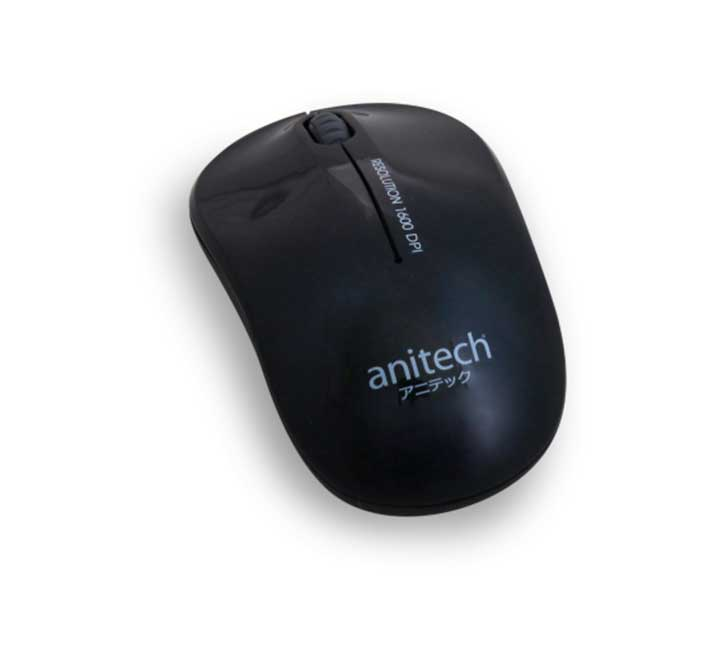Mouse: (180, 98, 572, 530)
